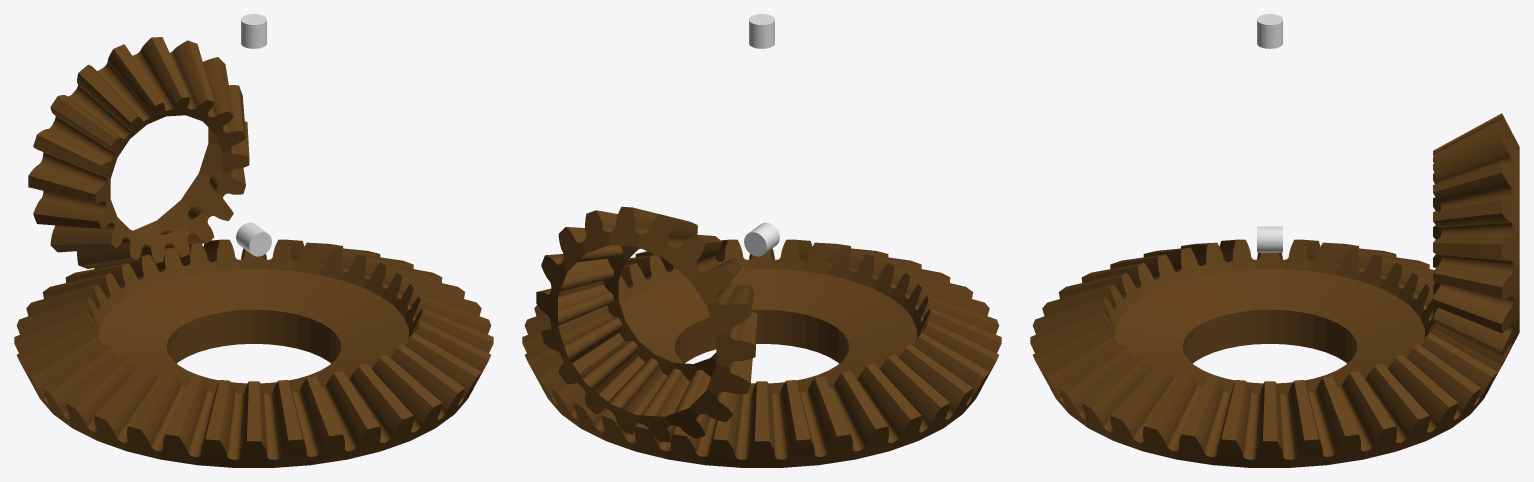
The model's file is worm_gear.glb.
3 renders of one model, left to right at view 1: azimuth 30°, elevation 25°; view 2: azimuth 150°, elevation 25°; view 3: azimuth 270°, elevation 25°, orthographic.
Parts seen in each view (by area): view 1: XYZ Function.001, XYZ Function.002, Cylinder, Cylinder.001; view 2: XYZ Function.001, XYZ Function.002, Cylinder, Cylinder.001; view 3: XYZ Function.001, XYZ Function.002, Cylinder.001, Cylinder.
Part boxes in pixels (bbox=[...]): XYZ Function.001: bbox=[14, 239, 493, 467]; XYZ Function.002: bbox=[28, 37, 249, 268]; Cylinder: bbox=[236, 222, 271, 256]; Cylinder.001: bbox=[241, 14, 266, 48]; XYZ Function.001: bbox=[522, 239, 1001, 467]; XYZ Function.002: bbox=[536, 206, 757, 442]; Cylinder: bbox=[744, 222, 779, 256]; Cylinder.001: bbox=[749, 14, 774, 48]; XYZ Function.001: bbox=[1030, 239, 1501, 467]; XYZ Function.002: bbox=[1433, 113, 1519, 365]; Cylinder.001: bbox=[1257, 14, 1282, 48]; Cylinder: bbox=[1257, 226, 1282, 252].
Bounding box in the file's own units: 36.55 × 30.38 × 37.31.
